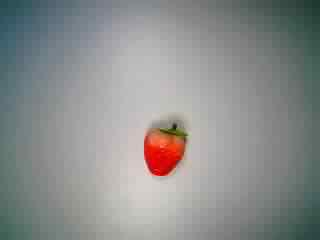strawberry: (130, 114, 192, 178)
